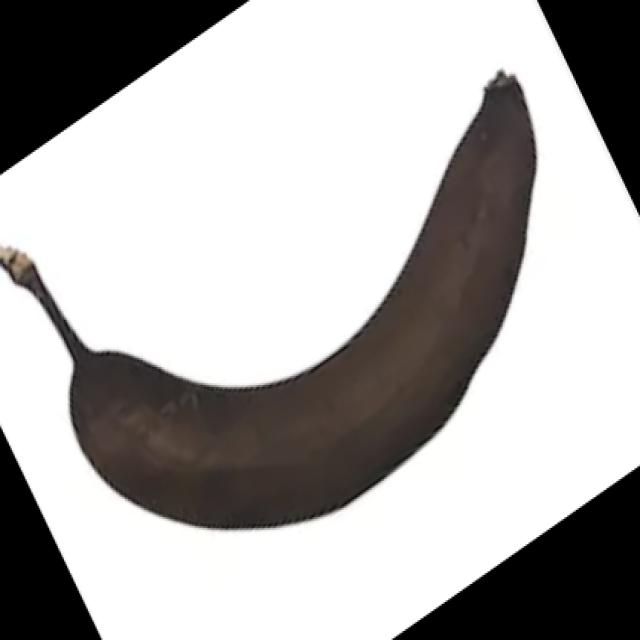Rotten: (0, 26, 552, 552)
